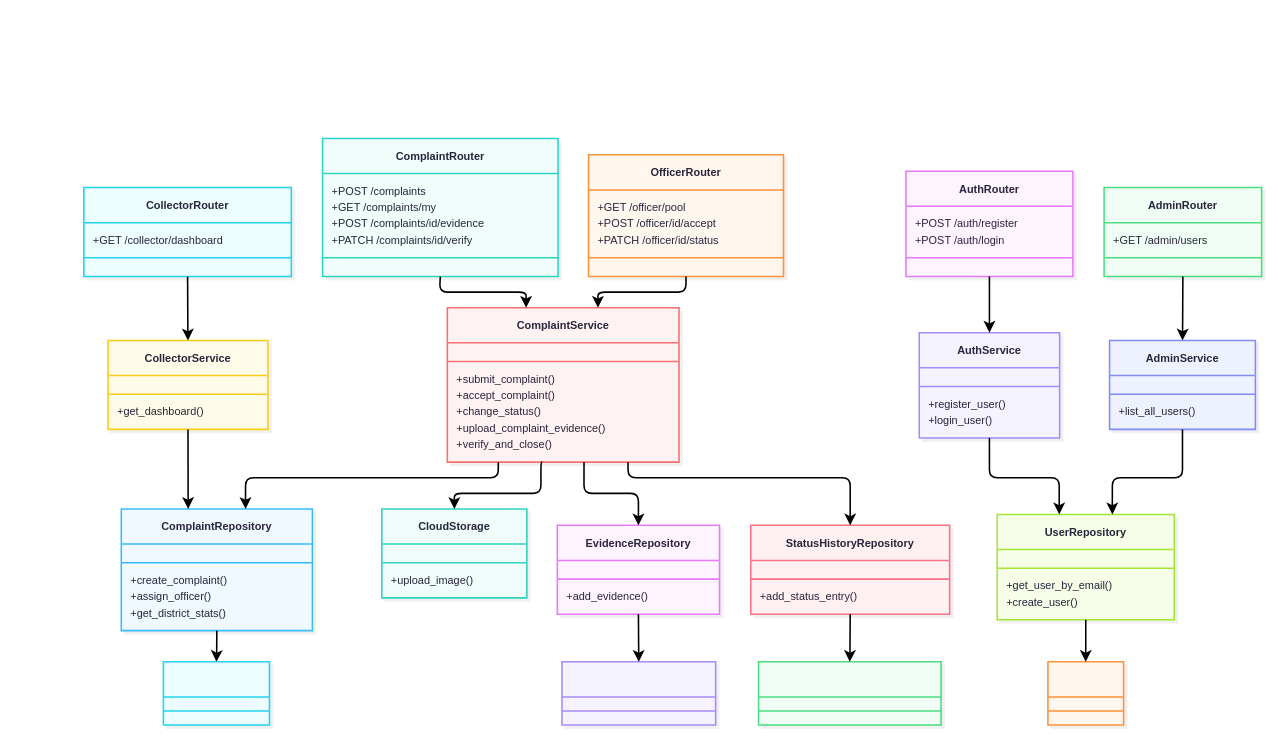
Some shapes in this 1278 by 742 pixel diagram are drawn without their labels. The shapes that lost their labels are listed below. From the top down, each one's centre as x and y in pixels, then its label:
At pixel 217 695: "ComplaintModel".
At pixel 640 695: "ComplaintEvidenceModel".
At pixel 851 695: "ComplaintStatusHistoryModel".
At pixel 1087 695: "UserModel".
